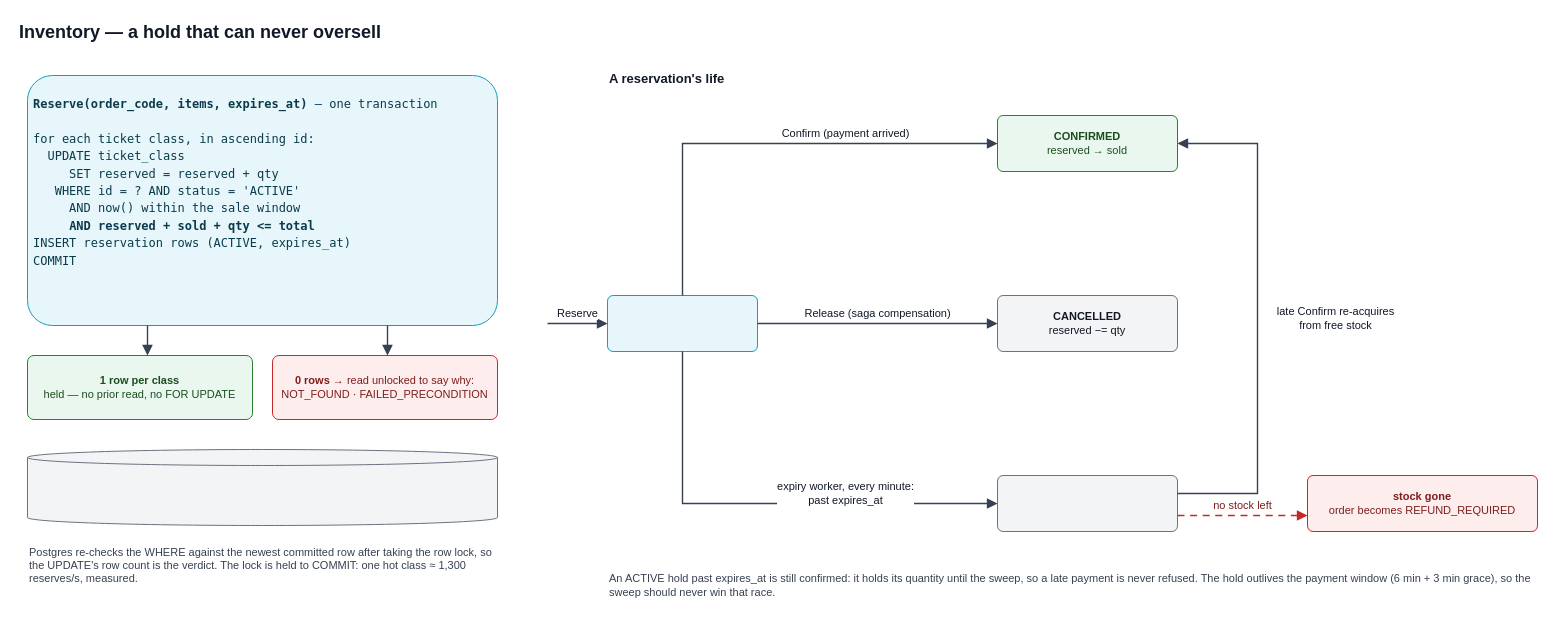
Image size: 1555x622. Some labels were removed from this diagram. The shapes that lost their labels are listed below. From the top down, each one's centre as x and y in pixels, then its label:
At pixel 682 323: "ACTIVE holds qty in reserved".
At pixel 262 487: "ticket_class total · reserved · sold CHECK reserved + sold ≤ total".
At pixel 1087 503: "EXPIRED reserved −= qty".
